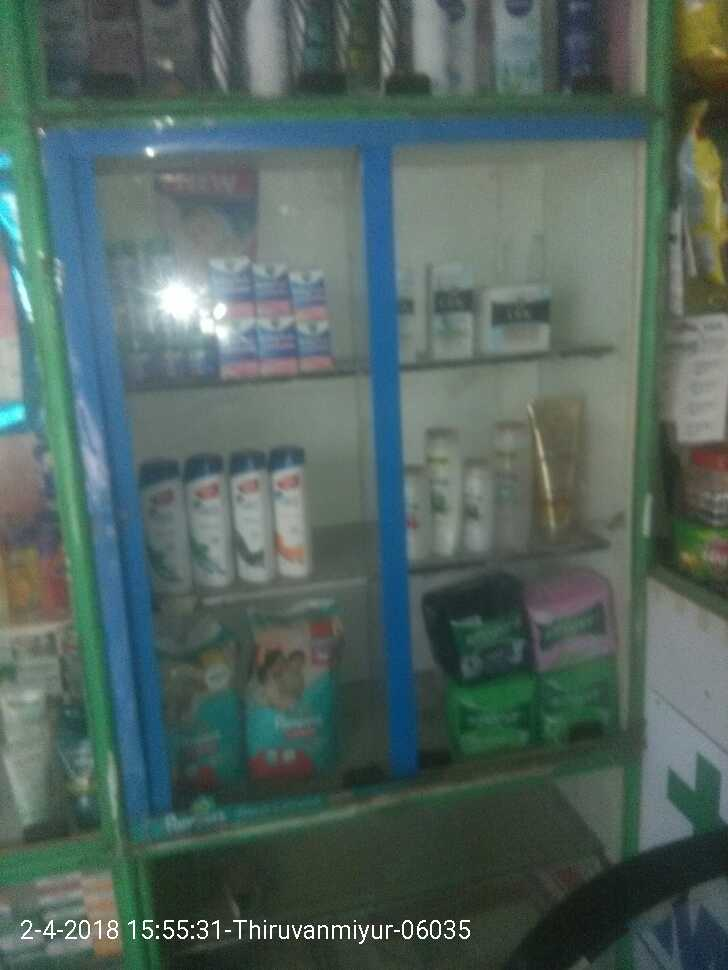vicks: (109, 232, 343, 376)
